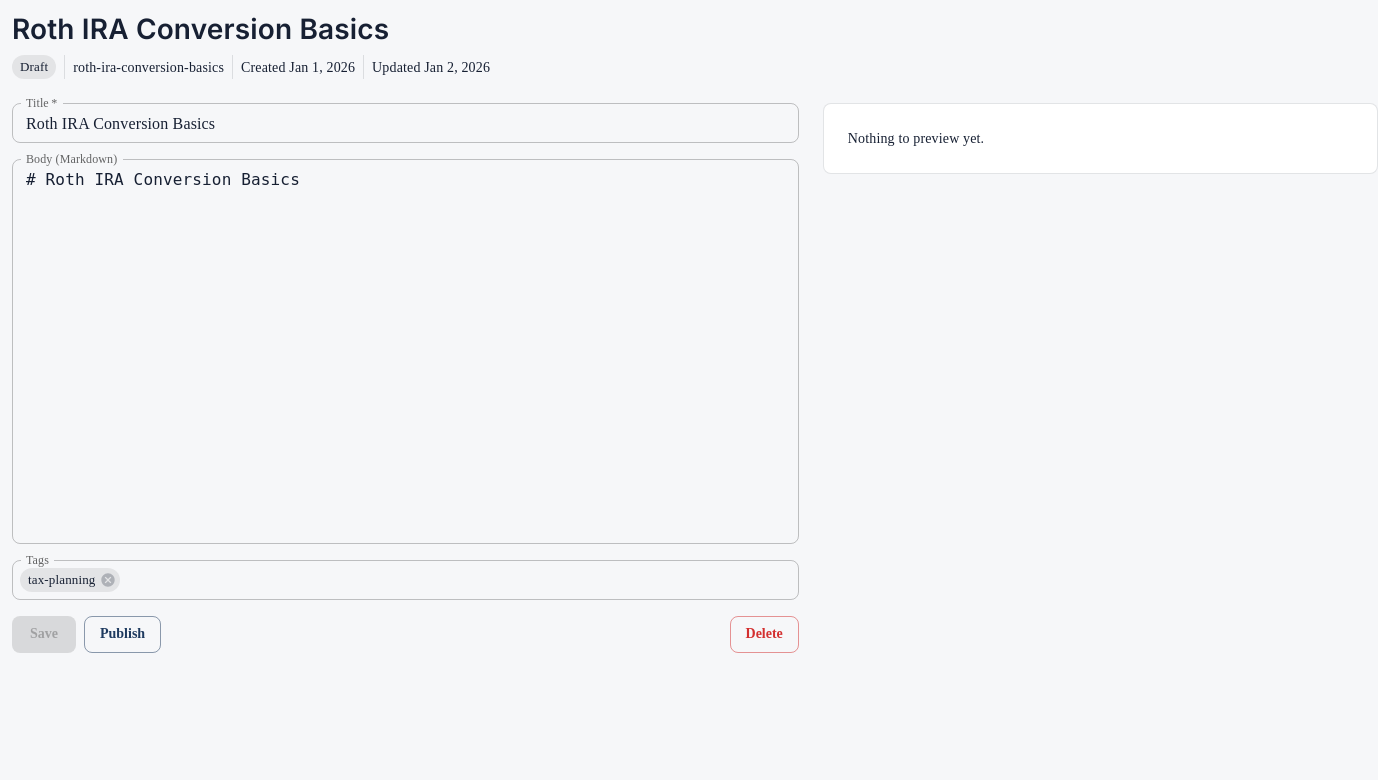
Test: ContentEditorScreen resilient background refetch › clicking Close dismisses the background-refetch alert; a later, distinct failure gets its own alert again
Replace the text in the field labelled "Title *" with "Edit One" at (405, 123), box top-left (12, 103), bottom-right (799, 143)
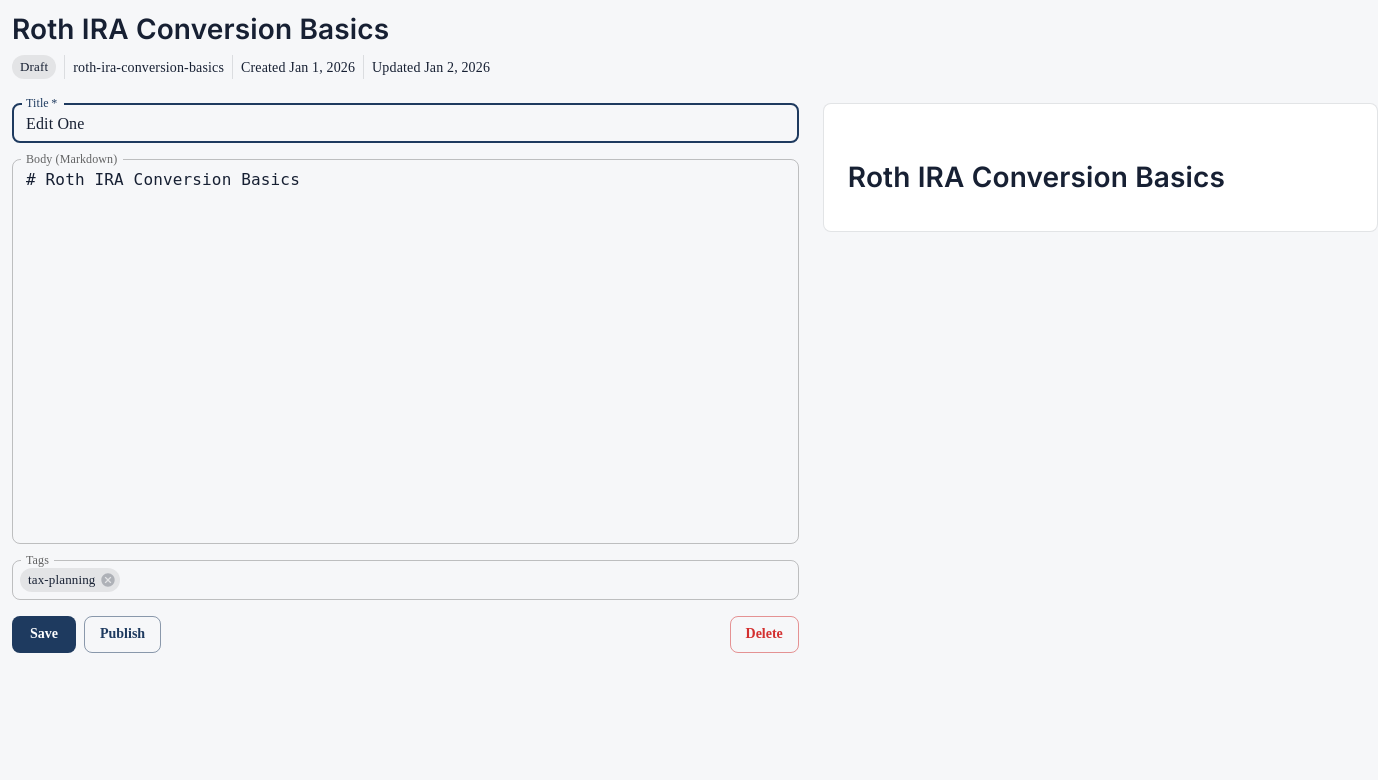
Click the button "Save" at (44, 634), box top-left (12, 616), bottom-right (76, 652)
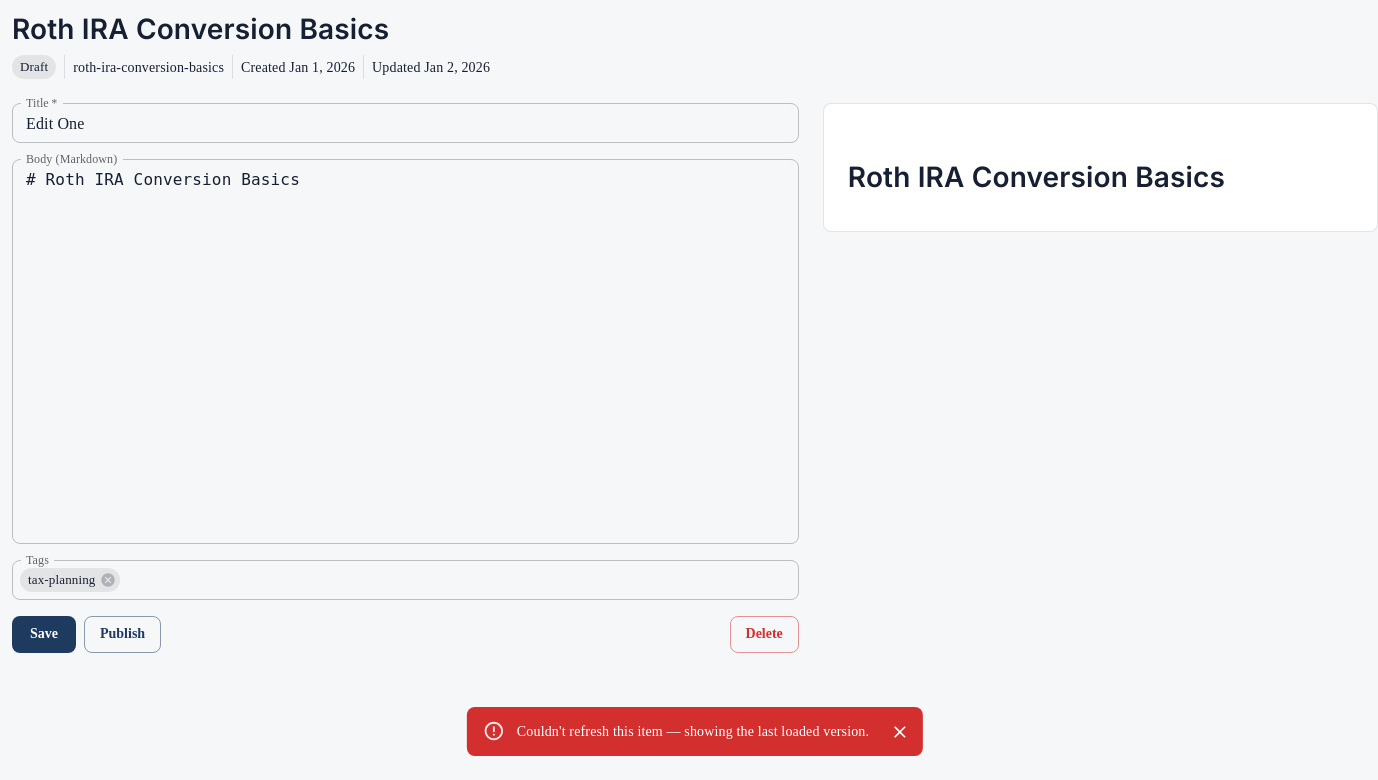
Expected: the message "Couldn't refresh this item — showing the last loaded version." is shown, top-left (467, 707), bottom-right (923, 756)
# Dismiss it.
Click the button named "close" at (900, 732), box top-left (885, 717), bottom-right (915, 747)
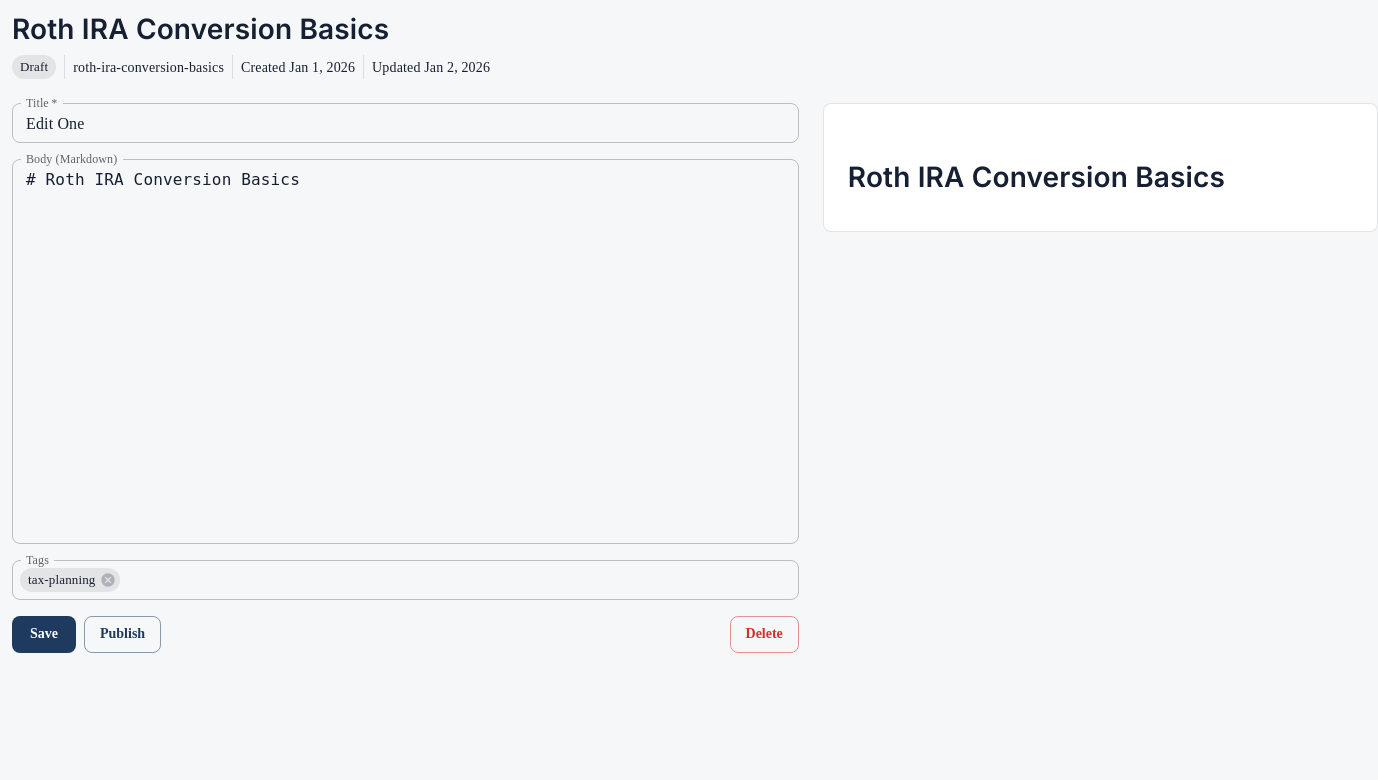
Expected: the message "Couldn't refresh this item — showing the last loaded version." is gone
Click the button "Save" at (44, 634), box top-left (12, 616), bottom-right (76, 652)
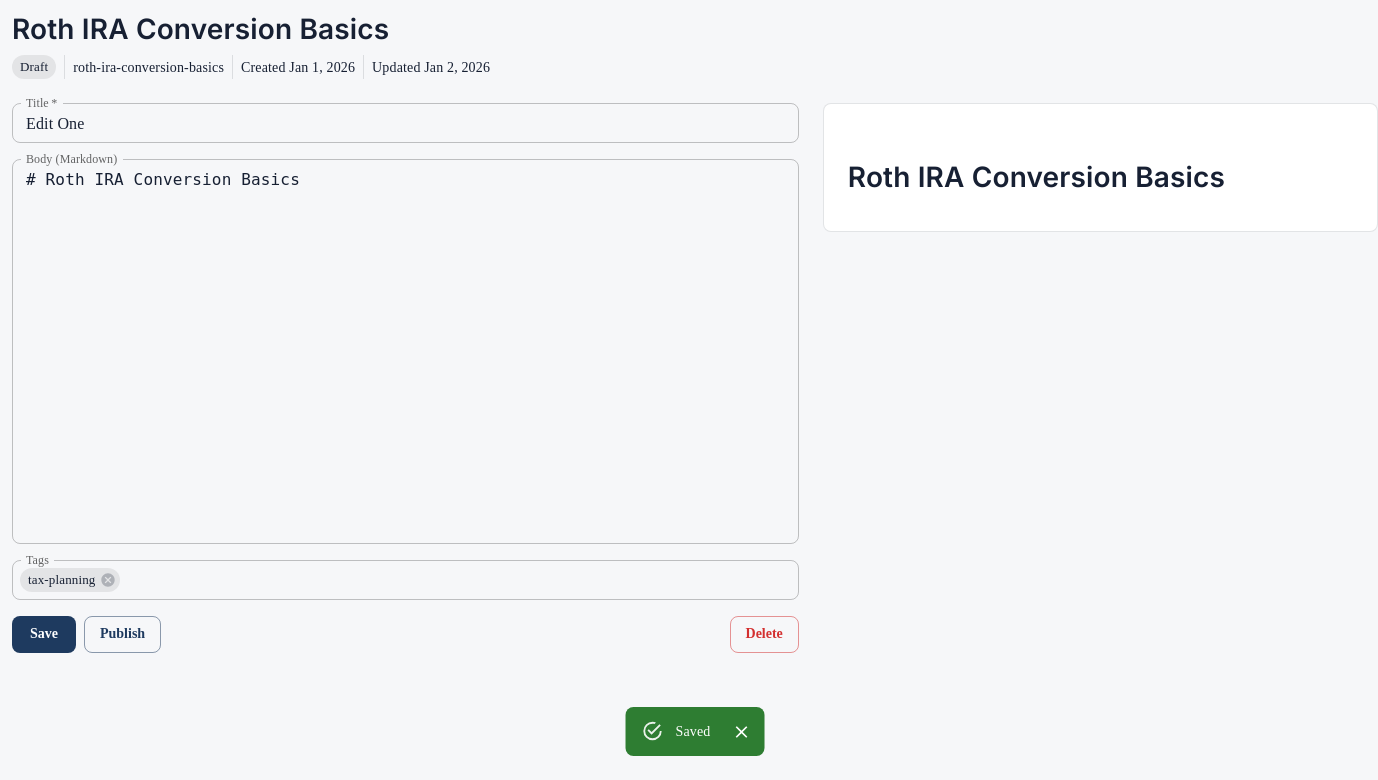
Replace the text in the field labelled "Title *" with "Edit Two" at (405, 123), box top-left (12, 103), bottom-right (799, 143)
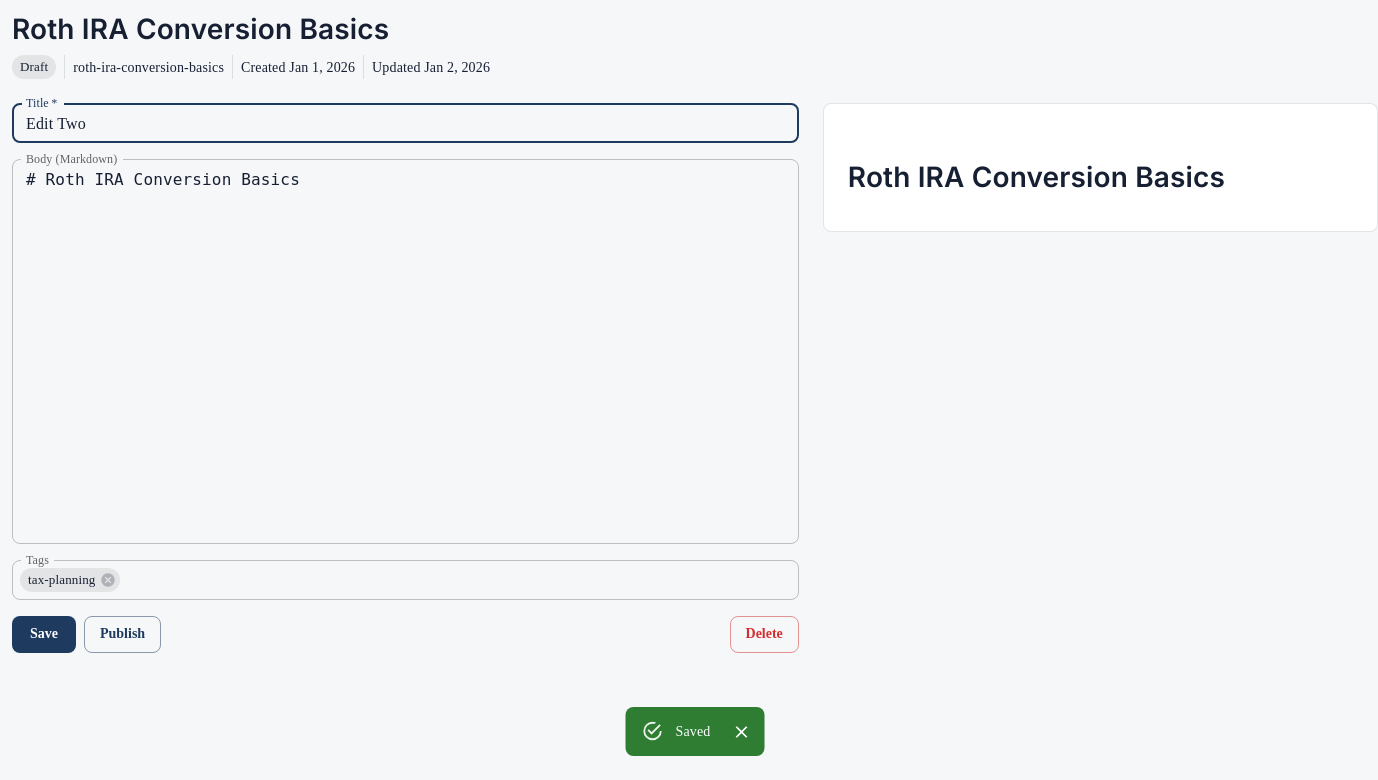
Click the button "Save" at (44, 634), box top-left (12, 616), bottom-right (76, 652)
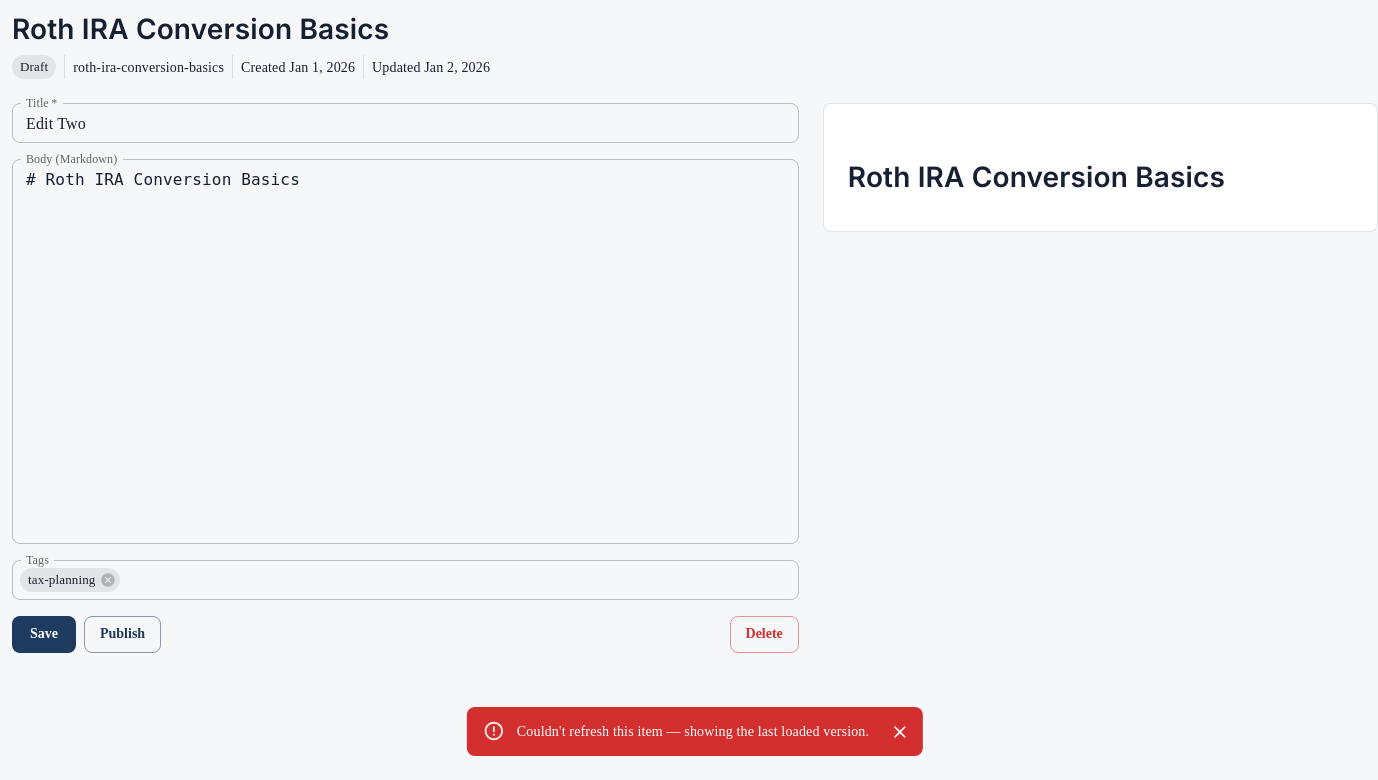
Expected: the message "Couldn't refresh this item — showing the last loaded version." is shown, top-left (467, 707), bottom-right (923, 756)
